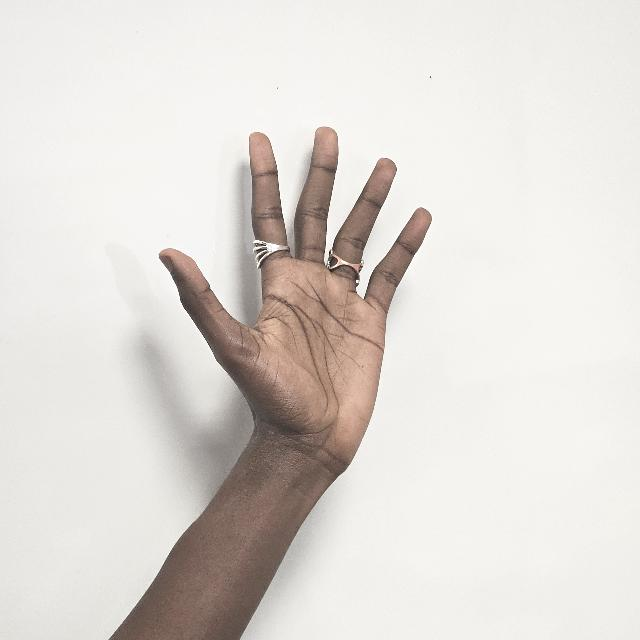X: (159, 124, 433, 473)
